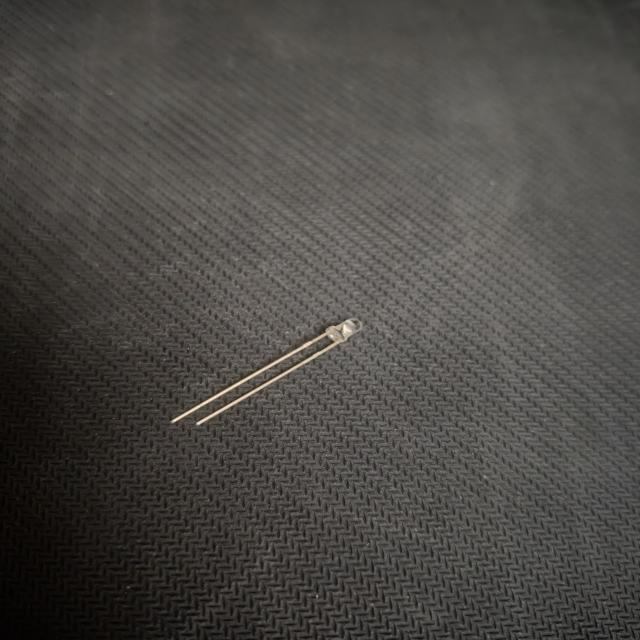led: (153, 305, 377, 440)
